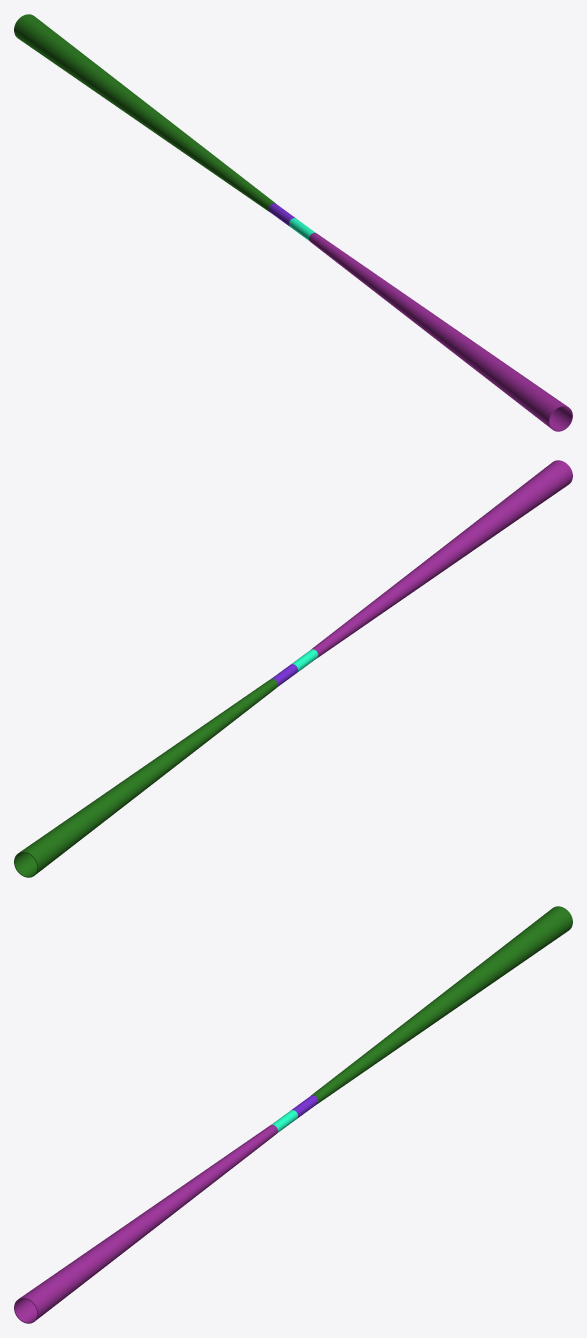
The model's file is IDEA_o2_v01.gltf.
The picture shows the model from 3 angles, top to bottom: view 1: azimuth 30°, elevation 25°; view 2: azimuth 150°, elevation 25°; view 3: azimuth 330°, elevation 25°; orthographic projection.
Visible parts, largest first — view 1: tube_AlBeMet162_wall_6, tube_AlBeMet162_wall2_7; view 2: tube_AlBeMet162_wall2_7, tube_AlBeMet162_wall_6; view 3: tube_AlBeMet162_wall_6, tube_AlBeMet162_wall2_7.
Part boxes in pixels (bbox=[...]): tube_AlBeMet162_wall_6: bbox=[309, 232, 572, 431]; tube_AlBeMet162_wall2_7: bbox=[14, 14, 275, 211]; tube_AlBeMet162_wall2_7: bbox=[14, 678, 277, 877]; tube_AlBeMet162_wall_6: bbox=[311, 460, 572, 657]; tube_AlBeMet162_wall_6: bbox=[14, 1124, 277, 1323]; tube_AlBeMet162_wall2_7: bbox=[311, 906, 572, 1103].
Size of the model in its own units: 6.18 by 6.15 by 238.
